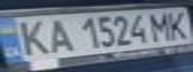1: (75, 15, 100, 49)
2: (112, 12, 133, 47)
4: (127, 11, 151, 45)
5: (93, 12, 115, 48)
A: (39, 16, 75, 54)
K: (9, 17, 54, 57), (163, 8, 193, 41)
M: (145, 9, 175, 43)
